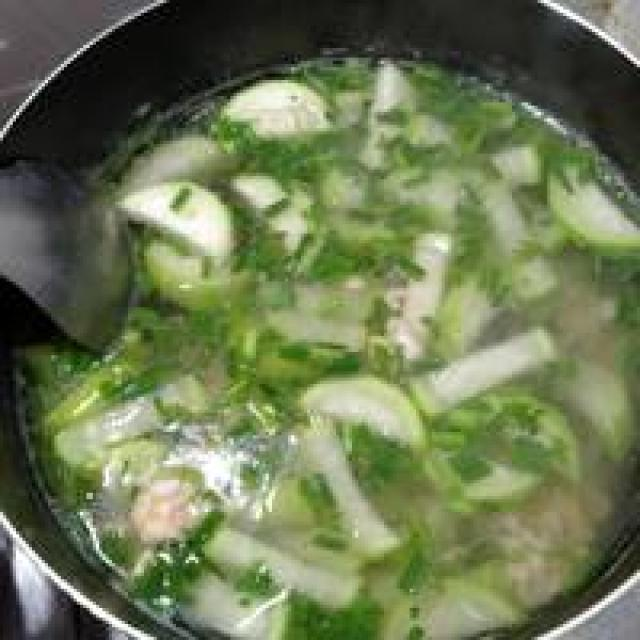canh bau: (10, 57, 637, 637)
